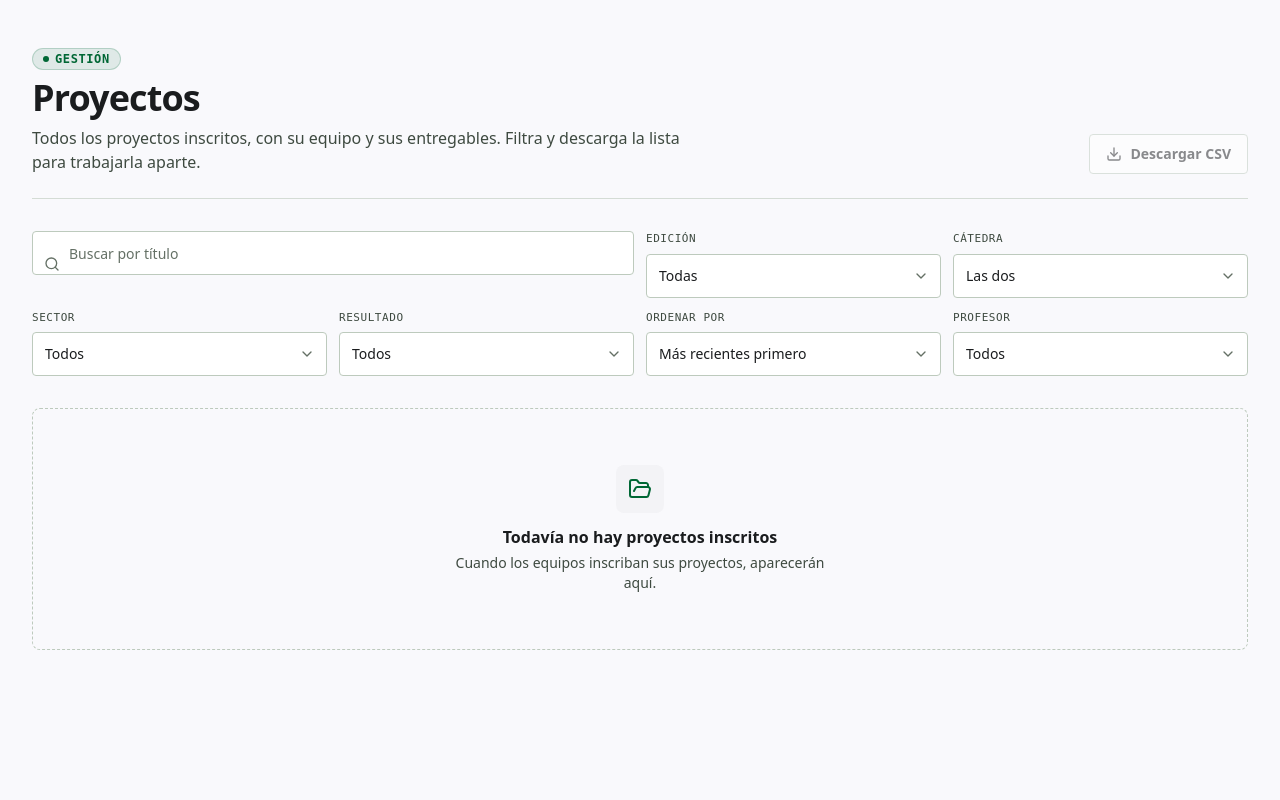
Test: Listado para la gestión › sin proyectos lo dice, y con filtros ofrece quitarlos
The width and height of the screenshot is (1280, 800).
Expected: the text "Todavía no hay proyectos inscritos" is shown, [503,526,777,548]
Select "INNPRENDE I · Despegue" in the dropdown labelled "Cátedra" at (1100, 276), box [953,254,1248,298]
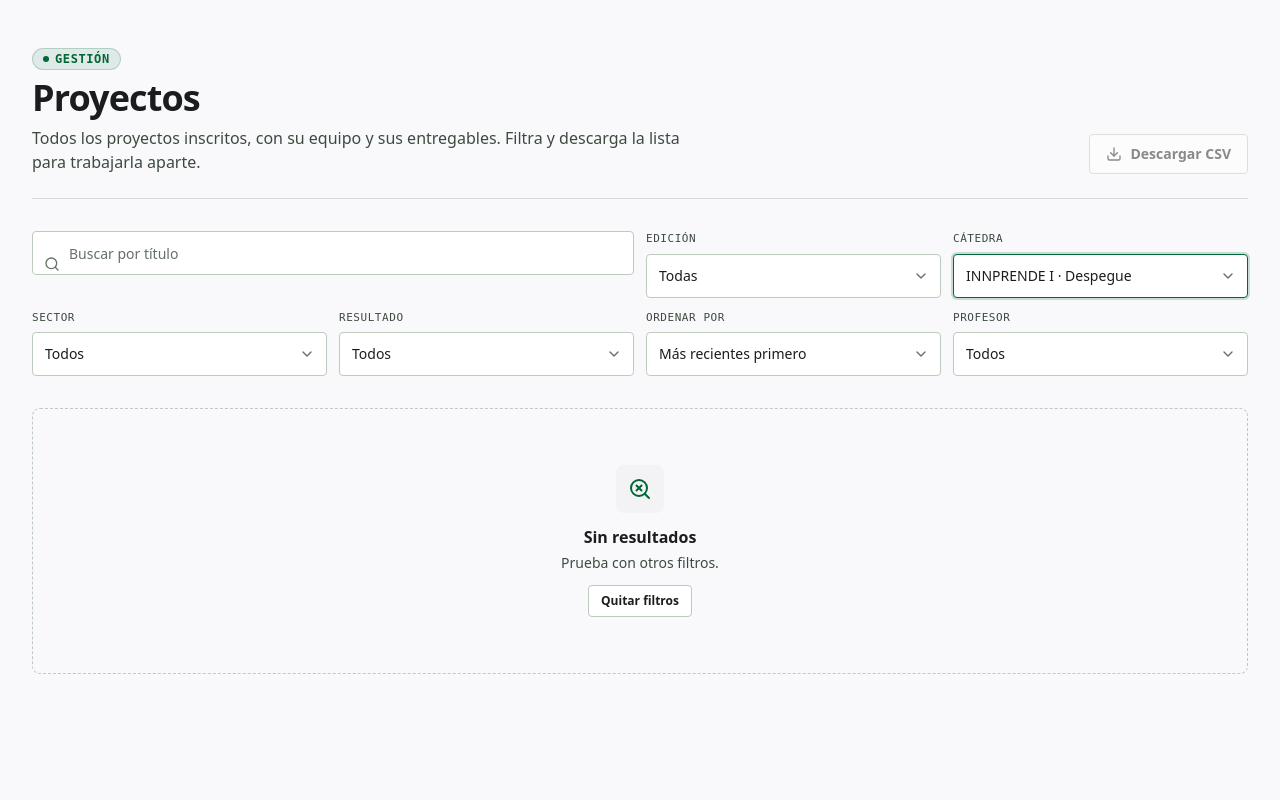
Result: the text "Sin resultados" is shown at [584,526,696,548]
Click the button "Quitar filtros".
click(640, 601)  # box [588,585,692,617]
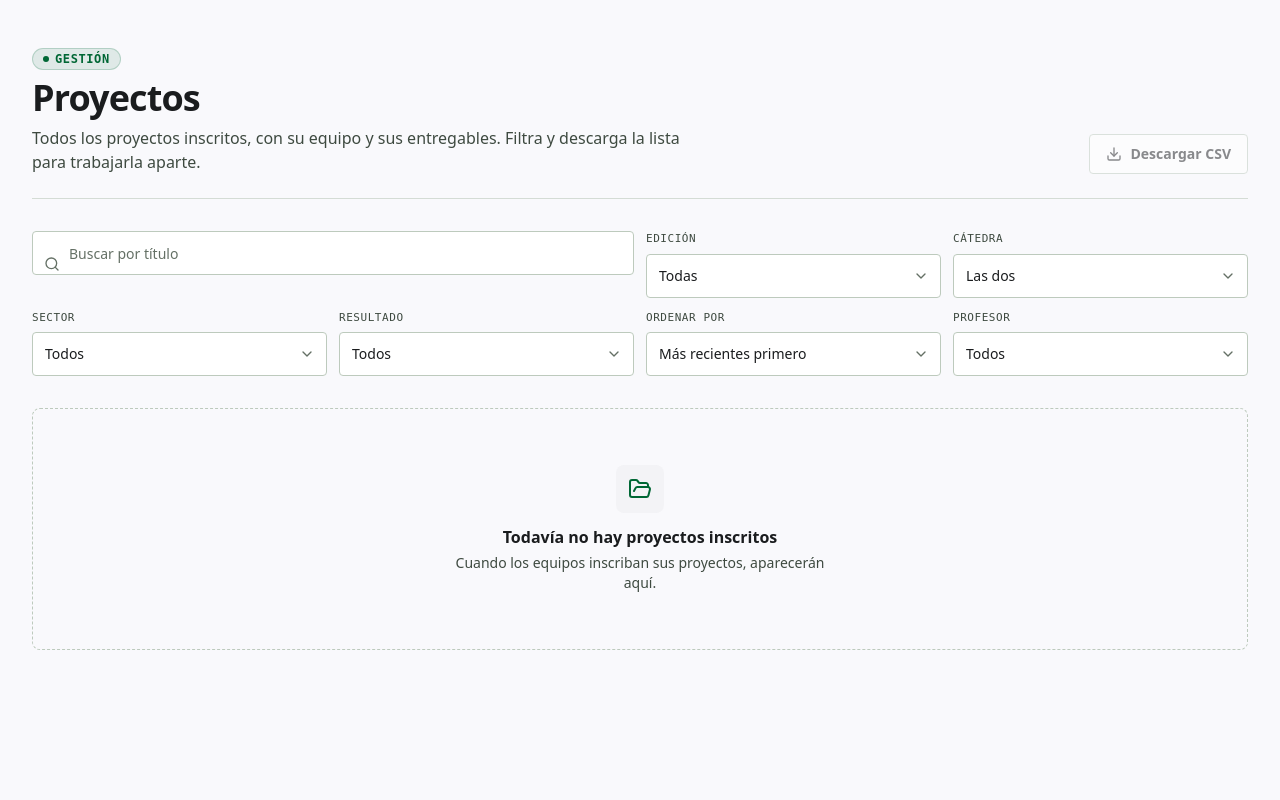
Result: the text "Todavía no hay proyectos inscritos" is shown at [503,526,777,548]
